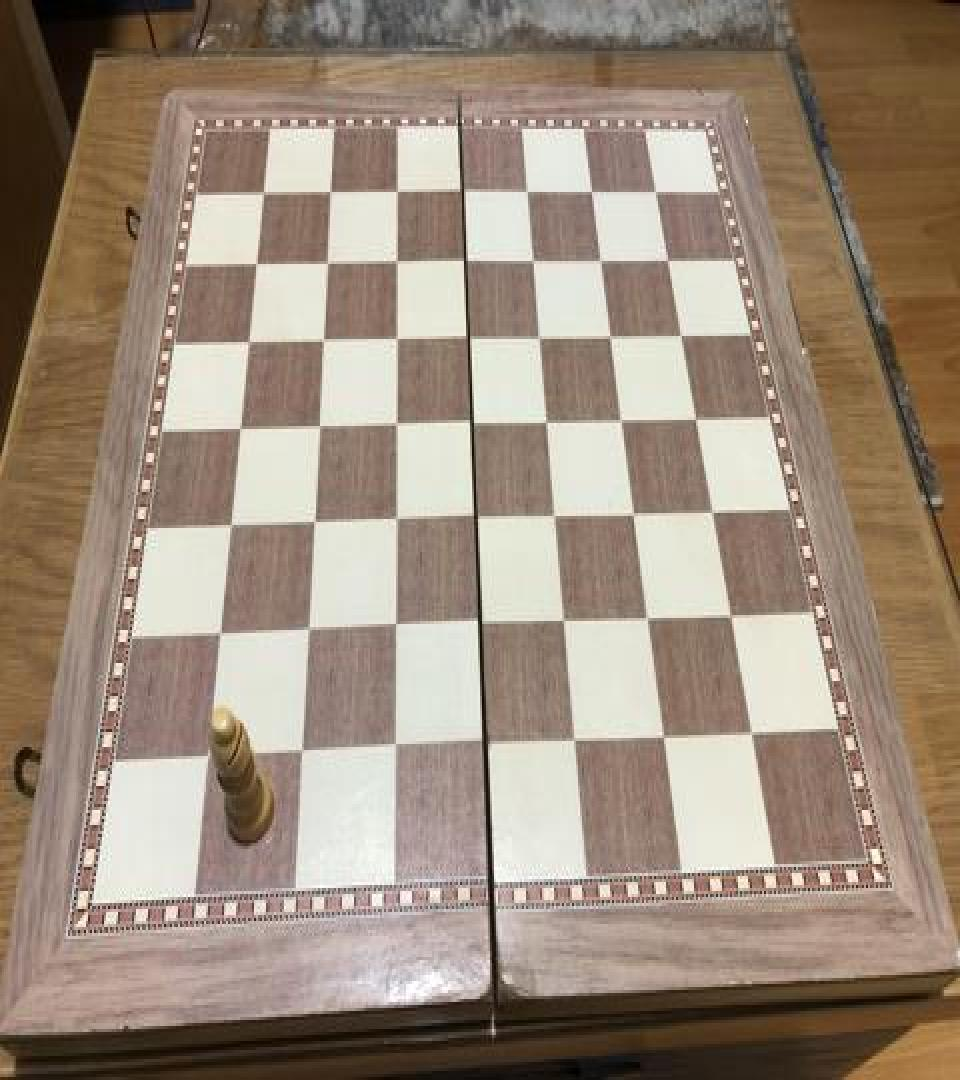xcorner: (649, 718, 673, 755), (287, 733, 311, 770), (644, 174, 668, 210), (580, 174, 604, 210), (515, 174, 539, 210), (450, 176, 474, 212), (385, 176, 409, 212), (318, 176, 342, 212), (251, 176, 275, 212), (656, 243, 680, 279), (589, 243, 613, 279), (521, 243, 545, 279), (453, 244, 477, 280), (384, 244, 408, 280), (314, 246, 338, 282), (244, 246, 268, 282), (669, 318, 693, 354), (598, 320, 622, 356), (527, 320, 551, 356), (456, 321, 480, 357), (383, 322, 407, 358), (310, 322, 334, 358), (236, 324, 260, 360), (683, 402, 707, 438), (609, 404, 633, 440), (534, 405, 558, 441), (459, 406, 483, 442), (383, 408, 407, 444), (305, 410, 329, 446), (227, 411, 251, 447), (699, 494, 723, 530), (621, 496, 645, 532), (542, 498, 566, 534), (462, 501, 486, 537), (382, 502, 406, 538), (300, 506, 324, 542), (218, 507, 242, 543), (717, 597, 741, 633), (634, 600, 658, 636), (551, 603, 575, 639), (466, 606, 490, 642), (381, 609, 405, 645), (294, 612, 318, 648), (207, 615, 231, 651), (737, 714, 761, 750), (560, 722, 584, 758), (471, 726, 495, 762), (380, 730, 404, 766), (194, 738, 218, 774)
